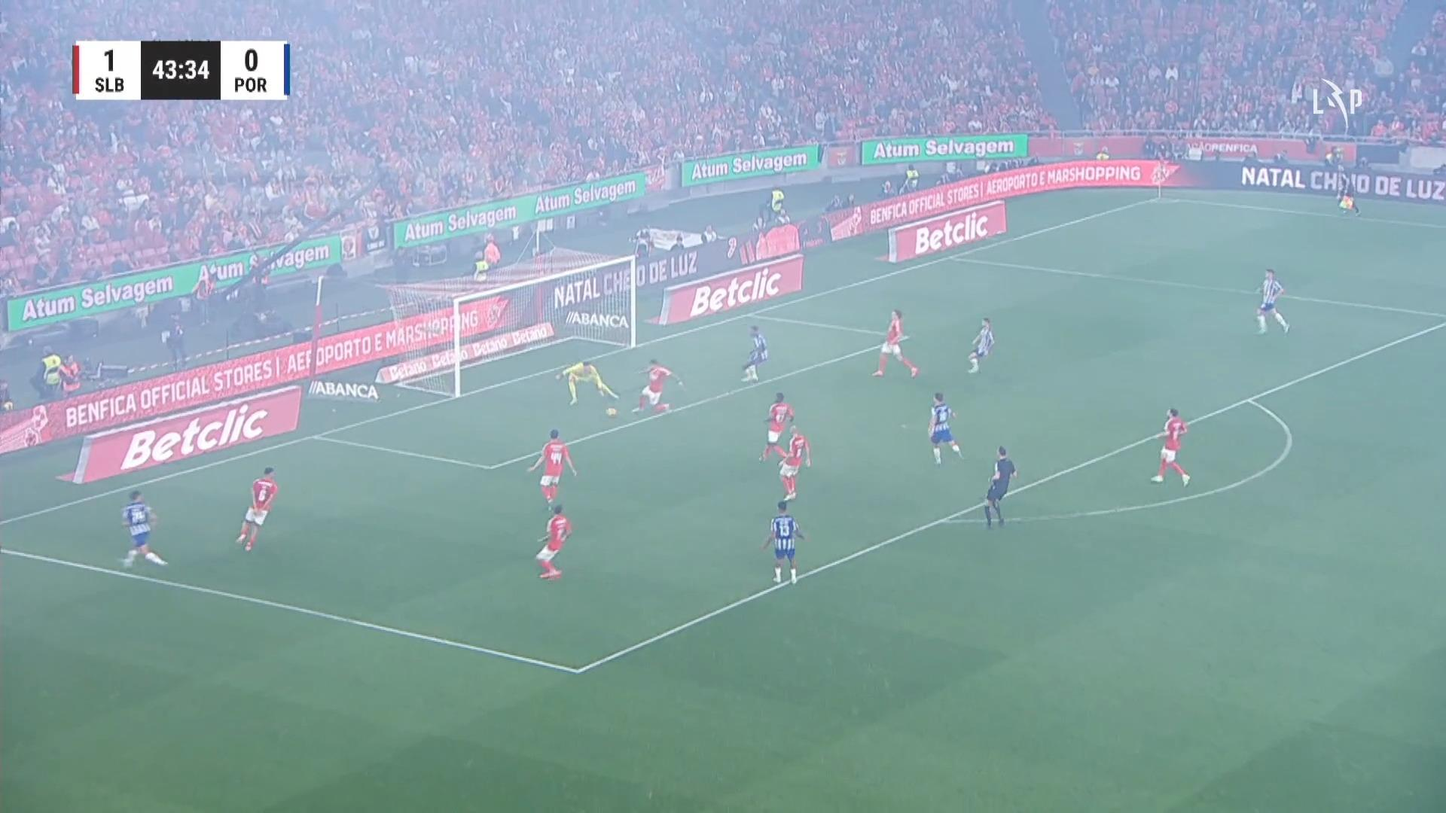ball: (606, 406, 617, 416)
goalkeeper: (554, 360, 620, 406)
player: (526, 428, 577, 511), (120, 489, 168, 568), (761, 500, 806, 584), (235, 465, 278, 552), (871, 309, 919, 378), (1149, 406, 1190, 486), (631, 358, 683, 414), (535, 503, 572, 579), (776, 424, 811, 500), (758, 391, 795, 462), (927, 391, 962, 465), (1253, 267, 1289, 335), (966, 316, 994, 373), (740, 324, 767, 382)
referee: (982, 445, 1017, 528), (1335, 174, 1359, 215)
